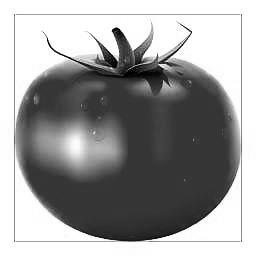bukan telur: (16, 21, 241, 242)
